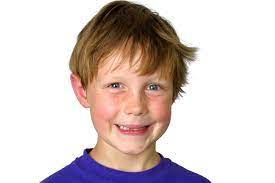person: (68, 1, 188, 155)
